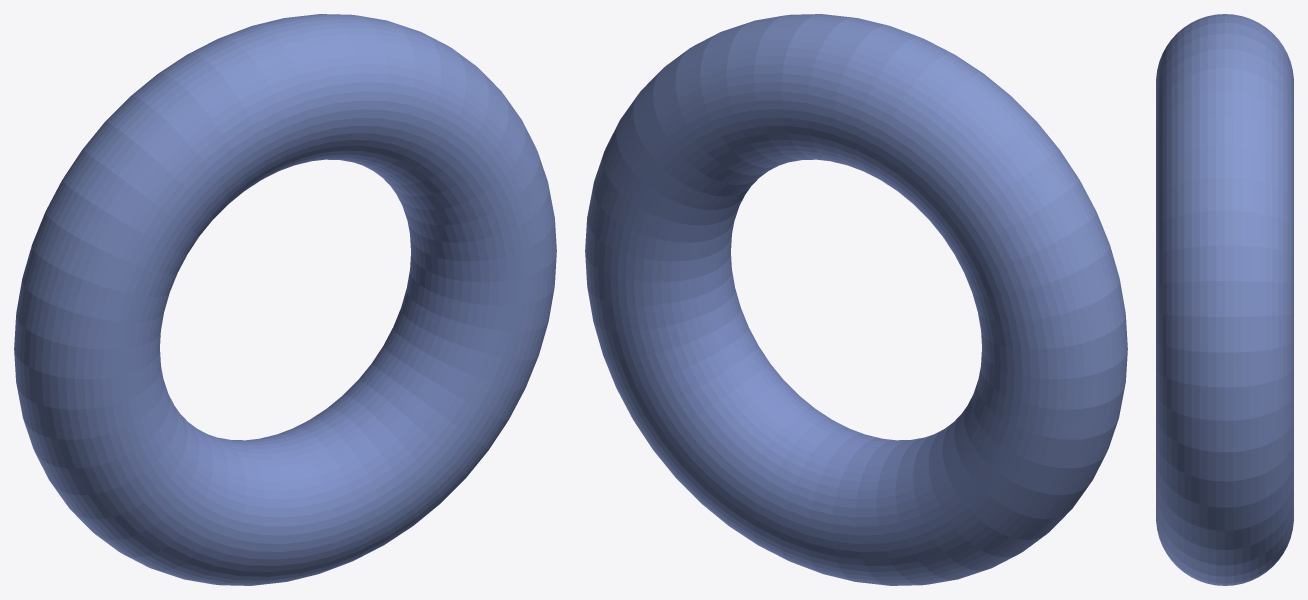
3 views of the same model, side by side, from view 1: azimuth 30°, elevation 25°; view 2: azimuth 150°, elevation 25°; view 3: azimuth 270°, elevation 25° (orthographic). The views are drawn at different scales.
Parts seen in each view (by area): view 1: world; view 2: world; view 3: world.
Part boxes in pixels (x1,y1,x2,y2): world: (14, 14, 556, 585); world: (585, 14, 1127, 585); world: (1156, 14, 1293, 585).
Bounding box in the file's own units: 19.33 × 19.3 × 4.66.
